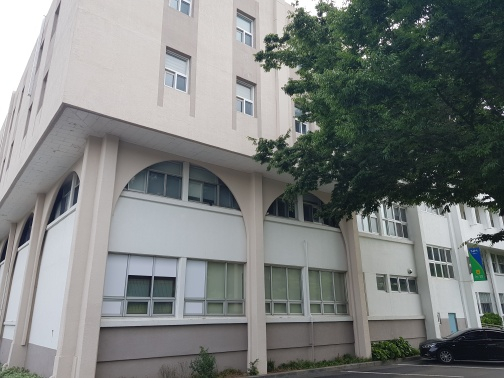Main Building of University: (3, 3, 503, 327), (105, 145, 360, 333), (156, 6, 263, 144), (465, 240, 487, 287)
